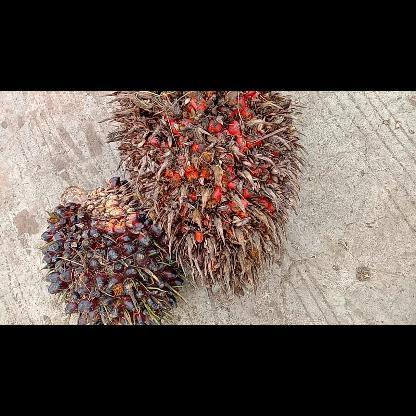TBS mentah: (38, 176, 188, 324)
Terlalu masak: (100, 91, 306, 297)
